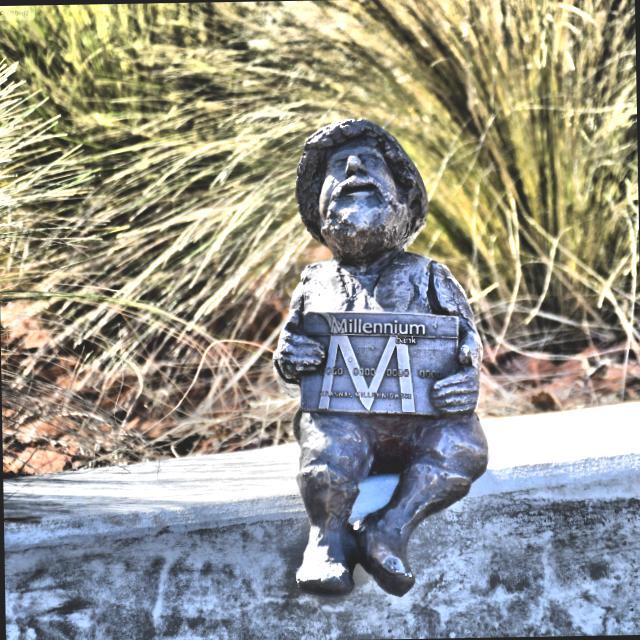Krasnal_Millenniowski: (272, 119, 489, 599)
